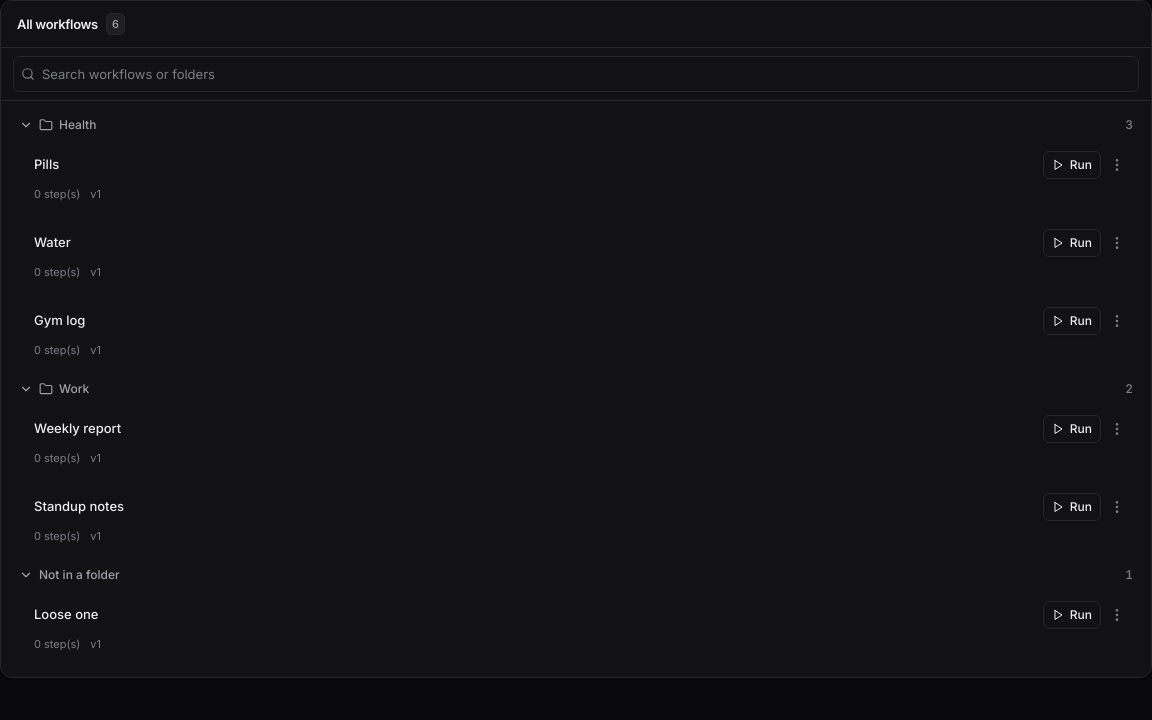
Test: search finds workflows by name or folder
Type "work" into the search field labelled "Search workflows" at (576,74), box [13, 56, 1139, 92]
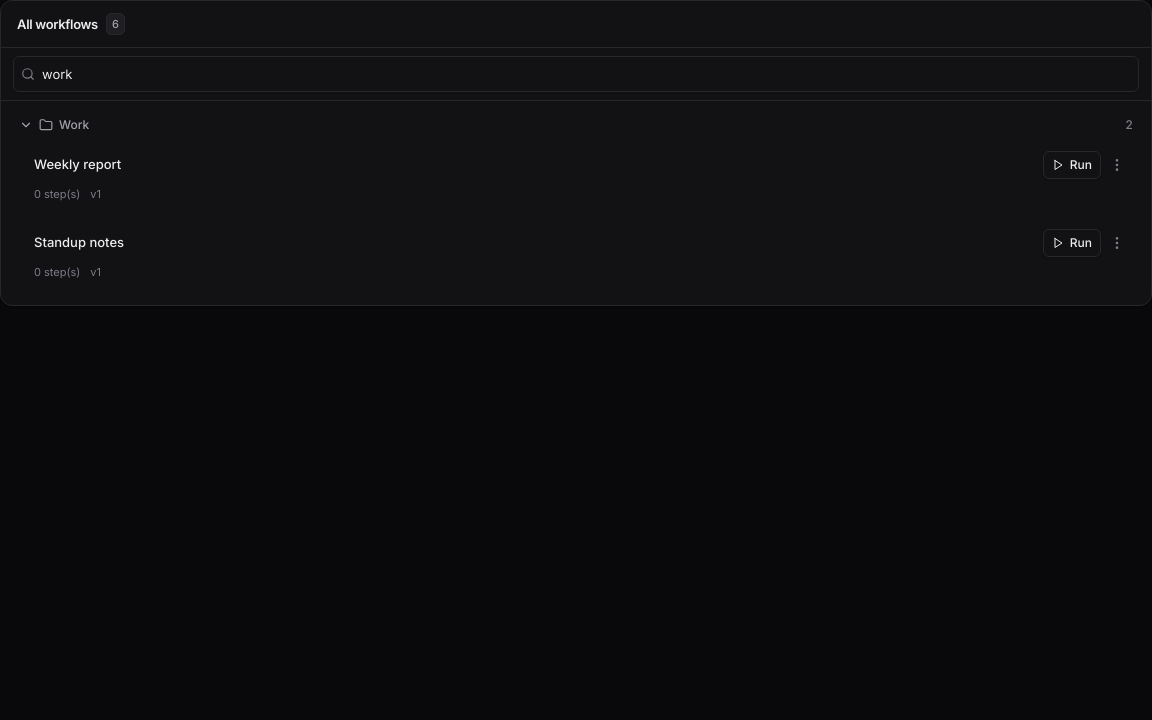
Expected: the text "Weekly report" is shown, [34, 156, 121, 172]
Result: the text "Pills" is gone
